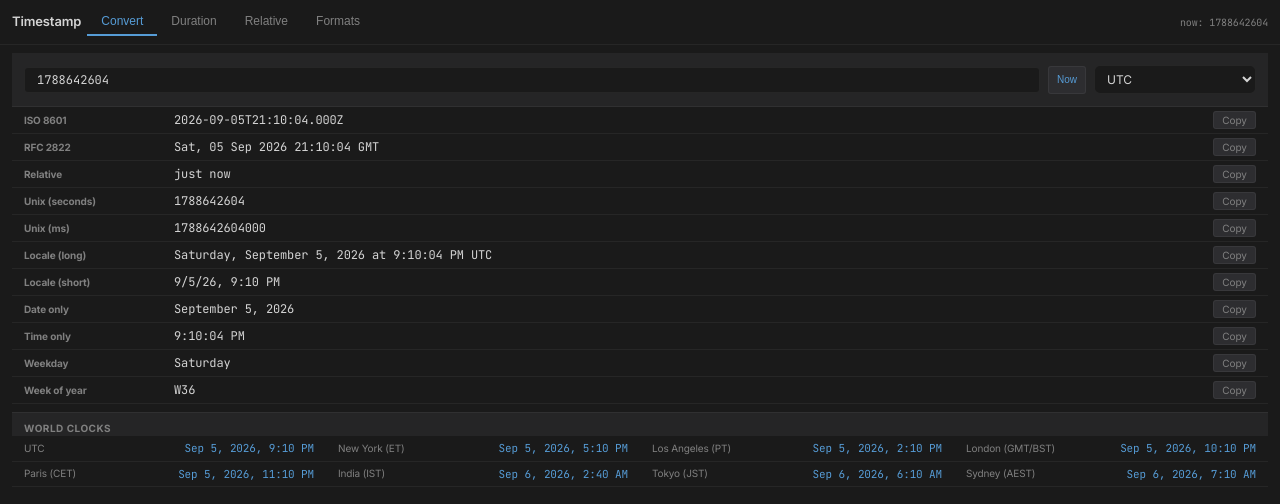
Test: TimestampPanel — conversion › Given Unix epoch seconds, then it shows equivalent ISO and millisecond values
The width and height of the screenshot is (1280, 504).
Replace the text in the field with placeholder "Unix timestamp or ISO date string…" with "0" at coordinates (532, 80), box [24,66,1040,92]
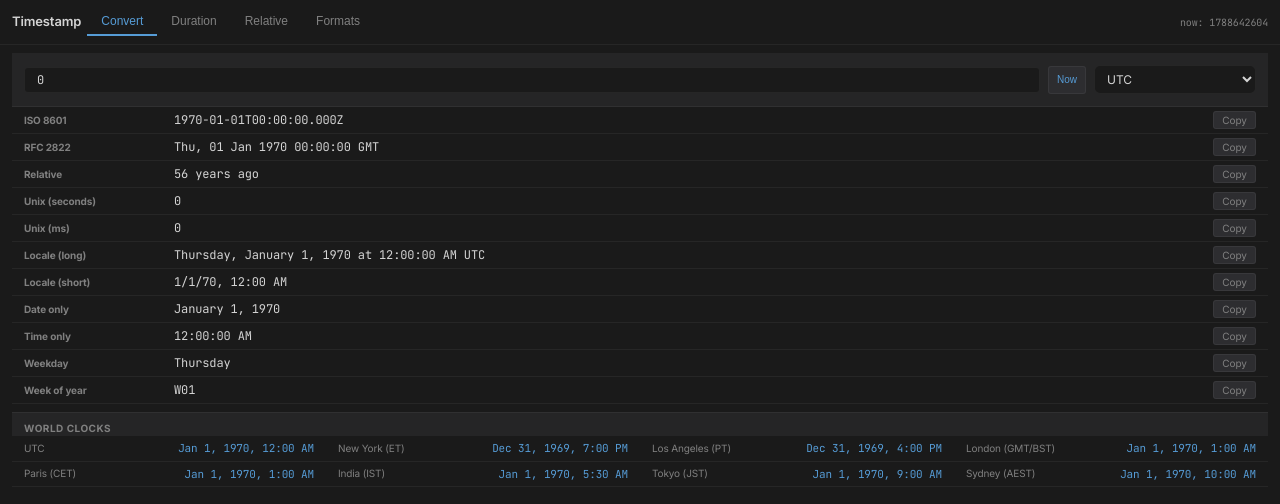
Expected: the text "1970-01-01T00:00:00.000Z" is shown, [174,112,344,128]
Expected: the text "0" next to "Unix (ms)" is shown, [174,220,181,236]
Expected: the text "Thu, 01 Jan 1970 00:00:00 GMT" is shown, [174,139,379,155]
